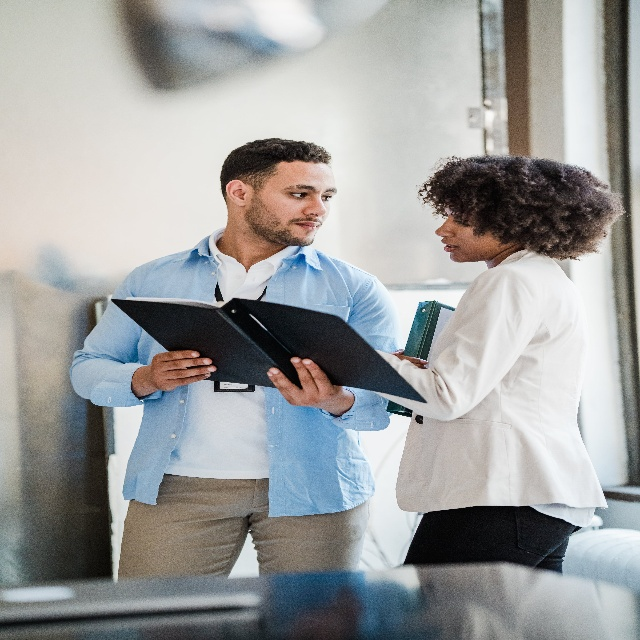Sin_guantes: (266, 356, 344, 409), (150, 349, 217, 391), (391, 349, 429, 370)
